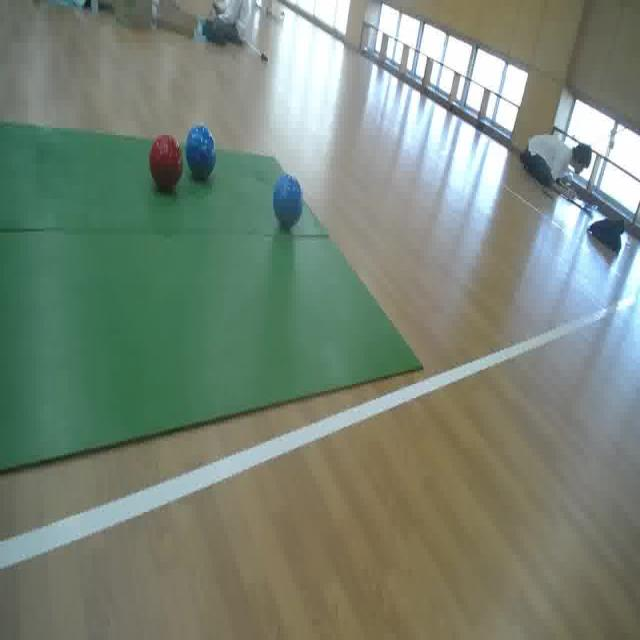blue_ball: (269, 172, 304, 232), (183, 120, 218, 180)
red_ball: (150, 134, 184, 193)
